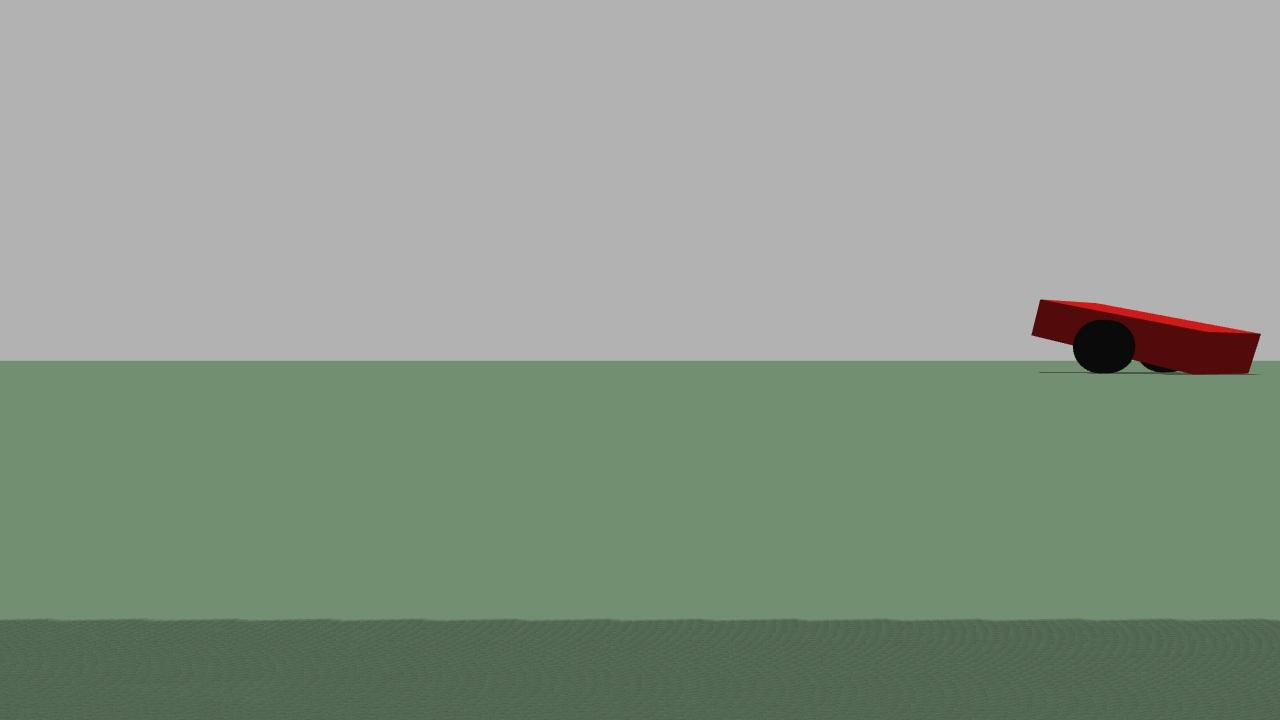ground_vehicle: (1025, 285, 1267, 396)
